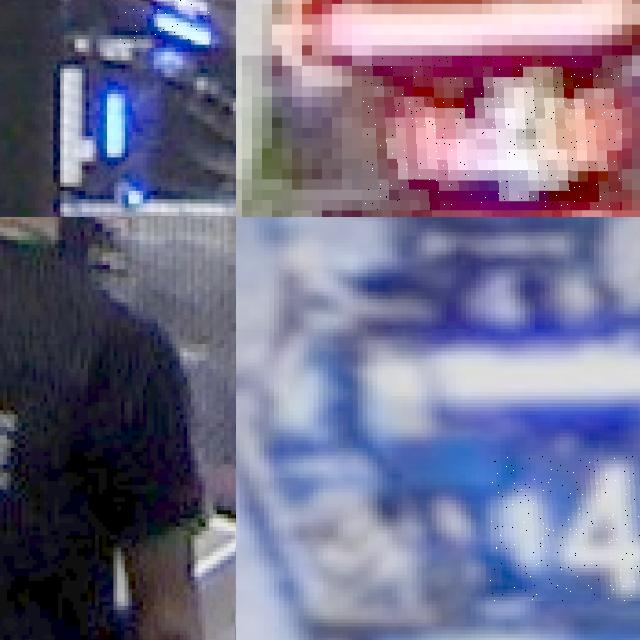B4: (490, 455, 640, 600), (117, 0, 211, 48)
R4: (362, 56, 622, 210)
